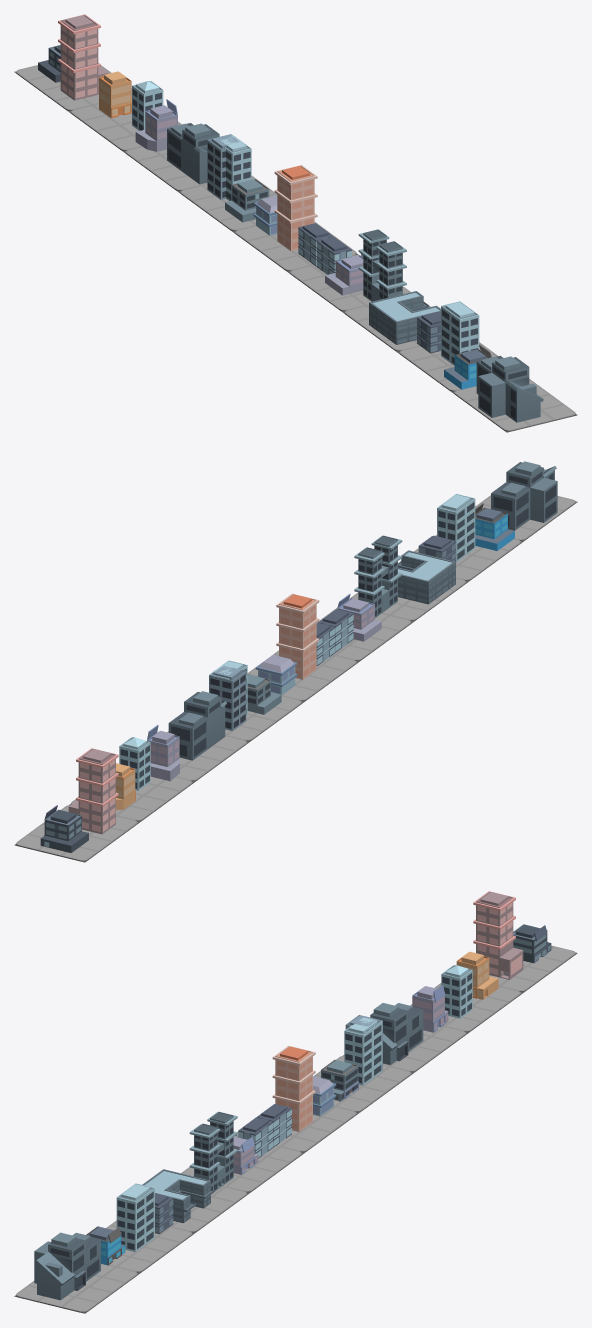
Rendered from Buildings-Road-Side (1).fbx.
The picture shows the model from 3 angles, top to bottom: view 1: azimuth 30°, elevation 25°; view 2: azimuth 150°, elevation 25°; view 3: azimuth 330°, elevation 25°; orthographic projection.
Parts seen in each view (by area): view 1: Buildings; view 2: Buildings; view 3: Buildings.
Boxes of the visible parts, x1,y1,x2,y2 form: Buildings: (14,14,577,432); Buildings: (14,461,577,862); Buildings: (14,891,577,1313).
Bounding box in the file's own units: 24 × 23.49 × 288.
